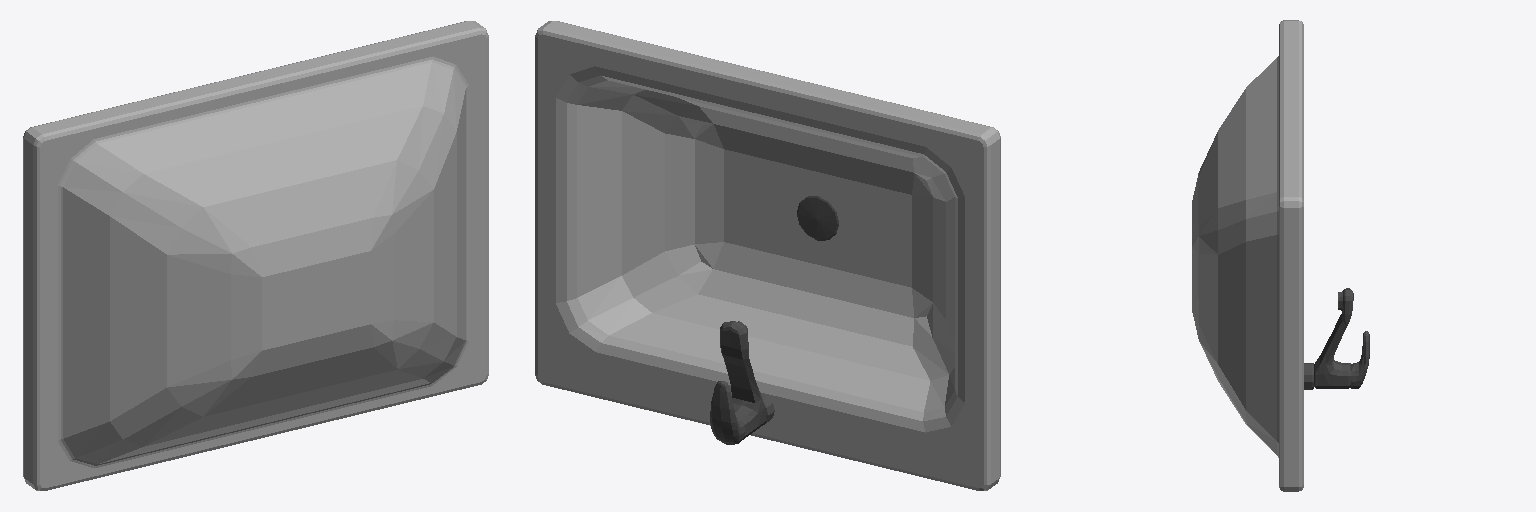
URDF robot description (79):
<robot name="79">


	<link name="0:virtual">
		<visual>
			<origin xyz="0.0 0.0 0.0" rpy="0 0 0"/>
			<geometry>
				<cylinder length="0" radius="0"/>
			</geometry>
		</visual>
	</link>


	<link name="1:static">
		<visual>
			<origin xyz="-0.0 -0.0 -0.0" rpy="0 0 0"/>
			<geometry>
				<mesh filename="../raw_data/79/part_meshes/1.dae" />
			</geometry>
		</visual>
	</link>


	<link name="2:faucet 1">
		<visual>
			<origin xyz="-0.0014748996171254896 -0.24136299443244932 0.2599252815319291" rpy="0 0 0"/>
			<geometry>
				<mesh filename="../raw_data/79/part_meshes/2.dae" />
			</geometry>
		</visual>
	</link>


	<link name="3:faucet handle 1">
		<visual>
			<origin xyz="-0.01354882414032587 -0.30136299443244935 0.24598898551727488" rpy="0 0 0"/>
			<geometry>
				<mesh filename="../raw_data/79/part_meshes/3.dae" />
			</geometry>
		</visual>
	</link>


	<joint name="0:virtual::1:static" type="fixed">
		<parent link="0:virtual"/>
		<child link="1:static"/>
		<origin xyz="0.0 0.0 0.0" rpy="0 0 0"/>
	</joint>


	<joint name="0:virtual::2:faucet 1_rotation" type="revolute">
		<parent link="0:virtual"/>
		<child link="2:faucet 1"/>
		<origin xyz="0.0014748996171254896 0.24136299443244932 -0.2599252815319291" rpy="0 0 0"/>
		<limit lower="-0.4084070449666731" upper="0.3612831551628262" effort="10" velocity="3"/>
		<axis xyz="0.0 1.0 0.0"/>
	</joint>


	<joint name="2:faucet 1::3:faucet handle 1_rotation" type="revolute">
		<parent link="2:faucet 1"/>
		<child link="3:faucet handle 1"/>
		<origin xyz="0.01207392452320038 0.060000000000000026 0.013936296014654237" rpy="0 0 0"/>
		<limit lower="-0.45553093477052" upper="0.0" effort="10" velocity="3"/>
		<axis xyz="0.9999859955398833 0.0 -0.005292326908696847"/>
	</joint>


</robot>

--- Facts derived from the render (not from the file) ---
Views: 3 orthographic renders of the robot side by side, from view 1: azimuth 30°, elevation 25°; view 2: azimuth 150°, elevation 25°; view 3: azimuth 270°, elevation 25°.
Model 79 with 4 links and 3 joints (2 revolute, 1 fixed), rooted at 0:virtual, posed all joints at 0.
Visible links, largest first — view 1: 1:static; view 2: 1:static, 2:faucet 1, 3:faucet handle 1; view 3: 1:static, 2:faucet 1, 3:faucet handle 1.
Link boxes in pixels (x1,y1,x2,y2): 1:static: [23, 21, 488, 490]; 1:static: [535, 21, 1000, 490]; 2:faucet 1: [720, 321, 765, 439]; 3:faucet handle 1: [710, 381, 744, 444]; 1:static: [1192, 20, 1313, 491]; 2:faucet 1: [1314, 288, 1353, 388]; 3:faucet handle 1: [1351, 331, 1369, 388].
Size in the robot's own frame: 0.8 by 0.3327 by 0.6 metres.
Meshes: 3 distinct files referenced, 3 mesh visuals loaded (3 Collada DAE).